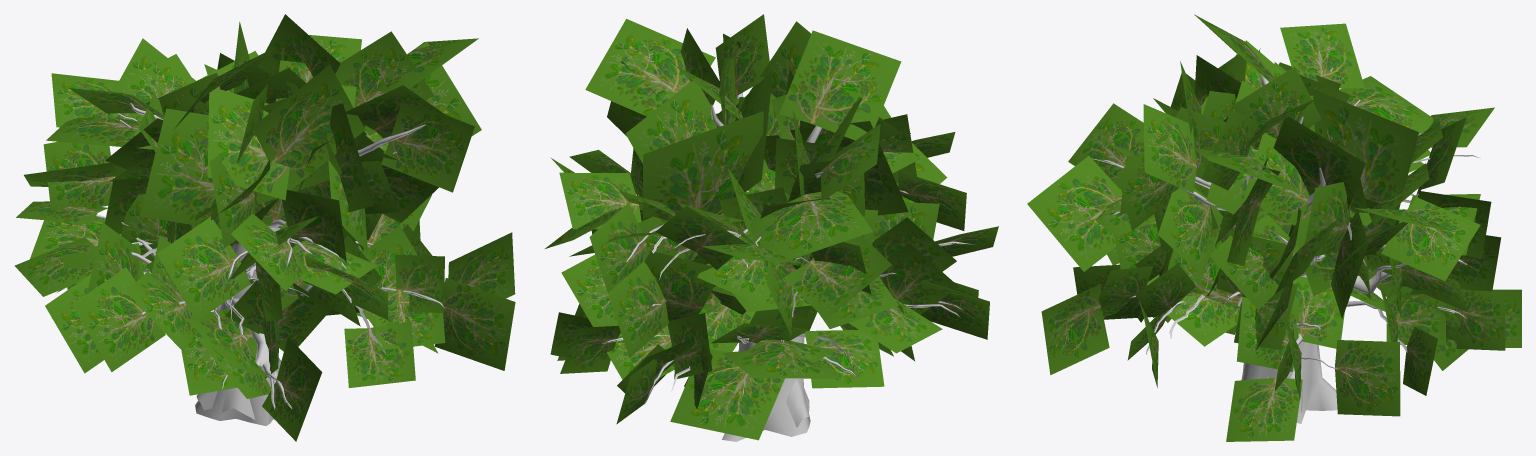
Rendered from R0_Park_Center_Tree_L1.fbx.
The picture shows the model from 3 angles, left to right: view 1: azimuth 30°, elevation 25°; view 2: azimuth 150°, elevation 25°; view 3: azimuth 270°, elevation 25°; orthographic projection. The views are drawn at different scales.
Visible parts, largest first — view 1: R0_Park_Center_Tree_L1; view 2: R0_Park_Center_Tree_L1; view 3: R0_Park_Center_Tree_L1.
Boxes of the visible parts, x1,y1,x2,y2 form: R0_Park_Center_Tree_L1: (15, 14, 515, 441); R0_Park_Center_Tree_L1: (545, 14, 998, 441); R0_Park_Center_Tree_L1: (1027, 14, 1521, 441).
Size of the model in its own units: 31.81 by 27.95 by 34.21.
